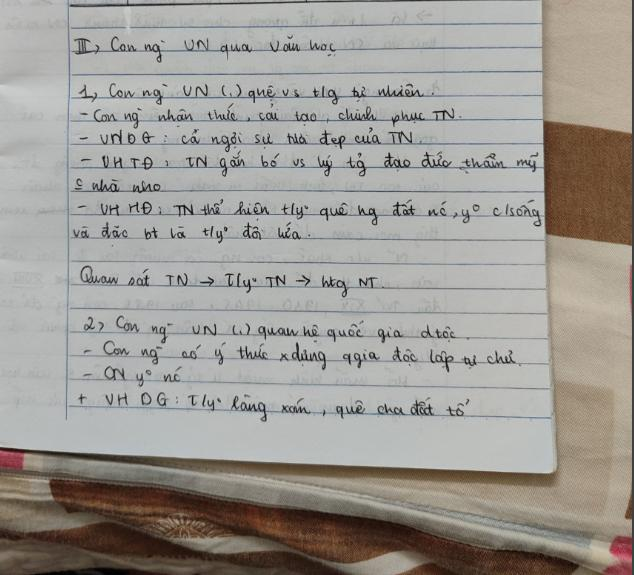text: (82, 338, 522, 375), (75, 197, 542, 229), (77, 388, 471, 425), (79, 149, 542, 179), (82, 312, 458, 347), (78, 263, 378, 301), (78, 79, 428, 107), (79, 125, 414, 154), (79, 106, 457, 129), (73, 33, 338, 65), (69, 221, 302, 247), (83, 363, 186, 389), (72, 176, 162, 196)
